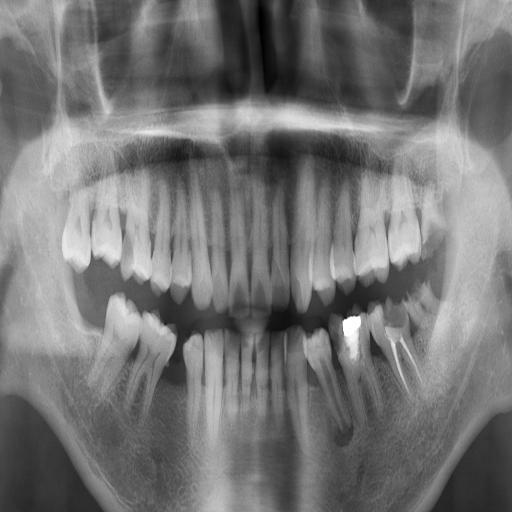Wisdom teeth: (62, 192, 90, 272), (422, 191, 446, 258), (403, 284, 438, 327)
